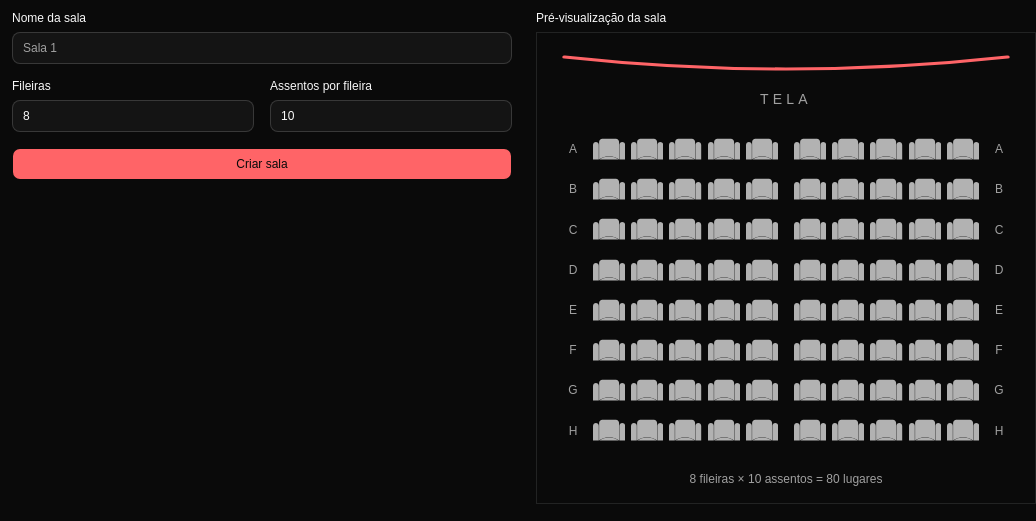
RoomForm › shows the room preview updating with rows/columns input
The width and height of the screenshot is (1036, 521).
Replace the text in the number field labelled "Fileiras" with "3". click: (133, 116)
box: x1=12 y1=100 x2=254 y2=132
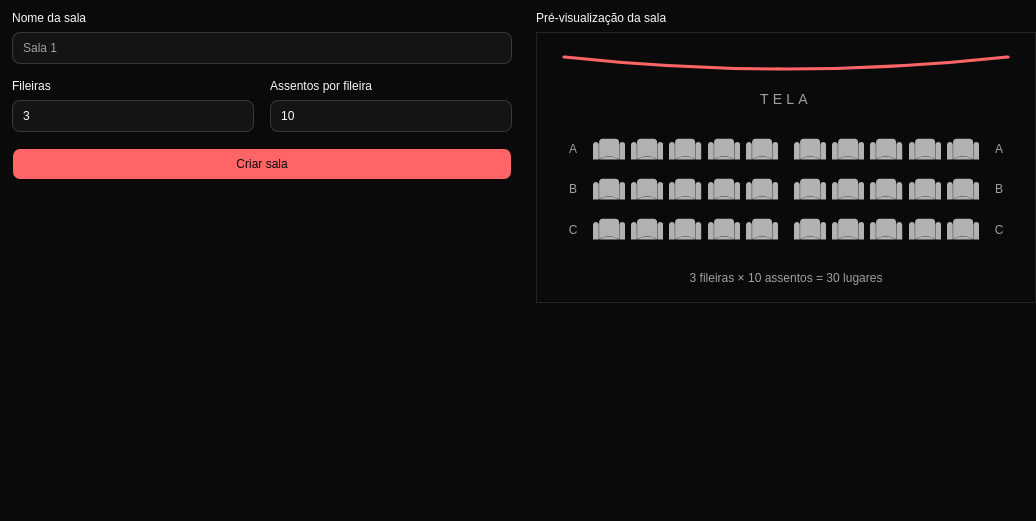
Replace the text in the number field labelled "Assentos por fileira" with "5". click: (391, 116)
box: x1=270 y1=100 x2=512 y2=132
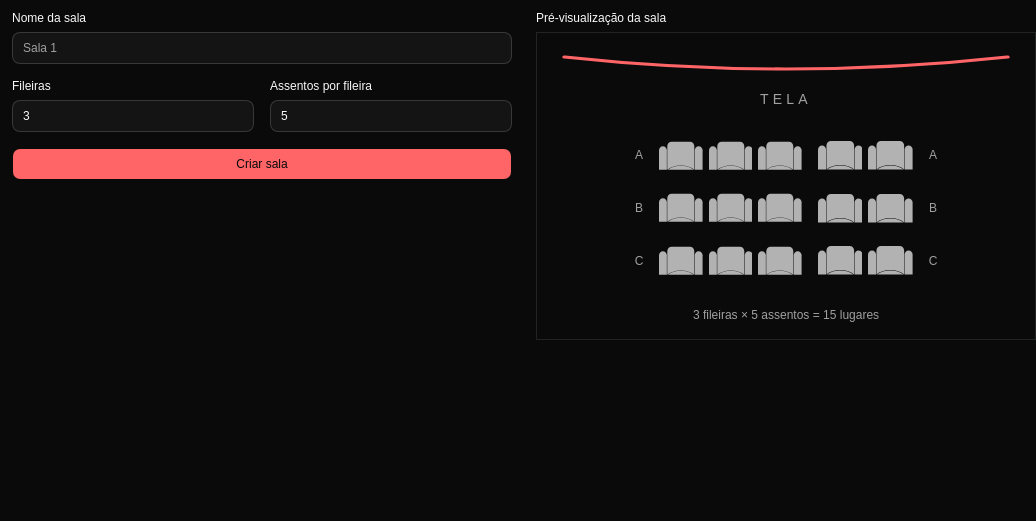
Expected: the text "3 fileiras × 5 assentos = 15 lugares" is shown, x1=693 y1=308 x2=879 y2=322
